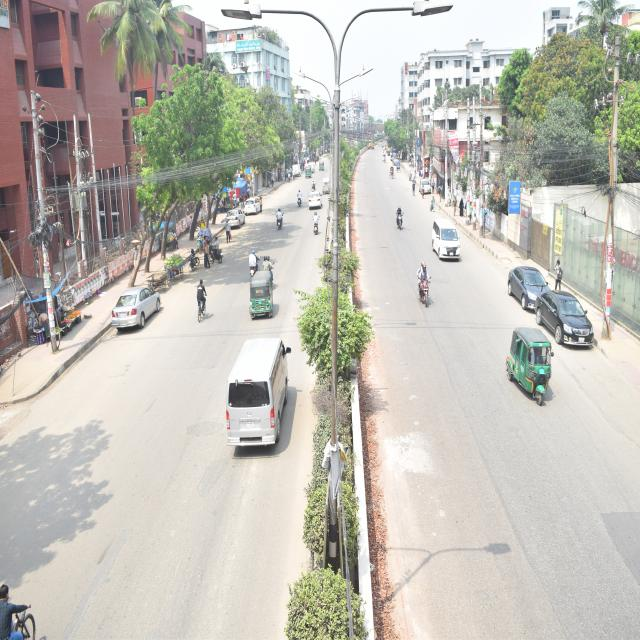car: (498, 233, 574, 329), (73, 270, 166, 348), (538, 278, 606, 363), (224, 200, 248, 248), (418, 166, 441, 212), (243, 192, 264, 228), (307, 183, 325, 221)
microbus: (206, 315, 306, 467), (429, 210, 471, 272), (288, 158, 306, 180)
motorbike: (414, 260, 434, 319), (200, 227, 226, 268), (393, 200, 411, 246), (241, 248, 261, 282), (186, 244, 205, 278), (271, 198, 285, 234), (310, 207, 322, 247), (261, 254, 276, 285), (294, 188, 308, 210), (309, 175, 317, 198)
